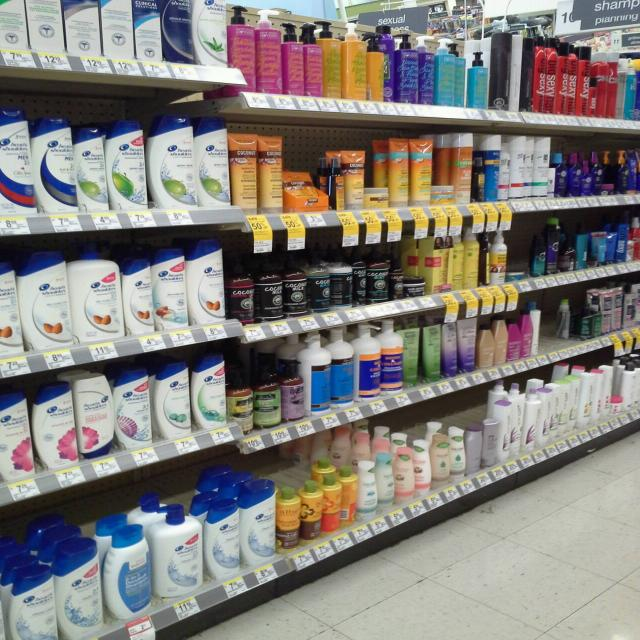empty: (536, 285, 568, 362)
